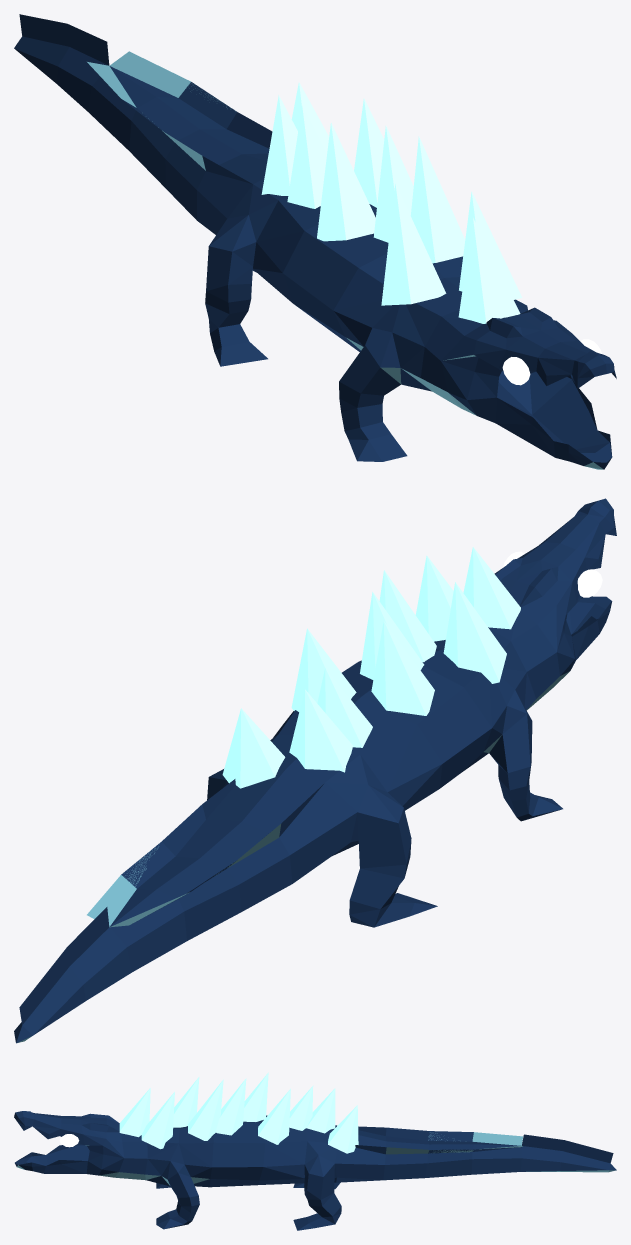
Rendered from Leviathan.fbx.
3 views of the same model, one above another, from view 1: azimuth 30°, elevation 25°; view 2: azimuth 150°, elevation 25°; view 3: azimuth 270°, elevation 25° (orthographic). The views are drawn at different scales.
Visible parts, largest first — view 1: Body, Glow_46e6ff, Tail1, Head, LegFL, Glow_78ffff; view 2: Body, Glow_46e6ff, Tail1, Head, LegBL, LegFL; view 3: Body, Glow_46e6ff, Tail1, Head, LegFR, LegBR.
Boxes of the visible parts, left/top/right/bottom form: Body: left=197, top=153, right=532, bottom=414; Glow_46e6ff: left=261, top=82, right=522, bottom=323; Tail1: left=14, top=14, right=272, bottom=220; Head: left=441, top=307, right=616, bottom=469; LegFL: left=205, top=267, right=431, bottom=461; Glow_78ffff: left=502, top=339, right=601, bottom=385; Body: left=202, top=606, right=574, bottom=883; Glow_46e6ff: left=222, top=547, right=520, bottom=788; Tail1: left=14, top=804, right=292, bottom=1043; Head: left=494, top=498, right=616, bottom=685; LegBL: left=311, top=812, right=414, bottom=927; LegFL: left=391, top=714, right=562, bottom=916; Body: left=102, top=1115, right=386, bottom=1199; Glow_46e6ff: left=119, top=1072, right=358, bottom=1153; Tail1: left=383, top=1127, right=616, bottom=1180; Head: left=14, top=1111, right=123, bottom=1177; LegFR: left=146, top=1173, right=321, bottom=1230; LegBR: left=309, top=1164, right=380, bottom=1227.
Size of the model in its own units: 6.39 by 7.1 by 30.
3 materials, 1 textured.
